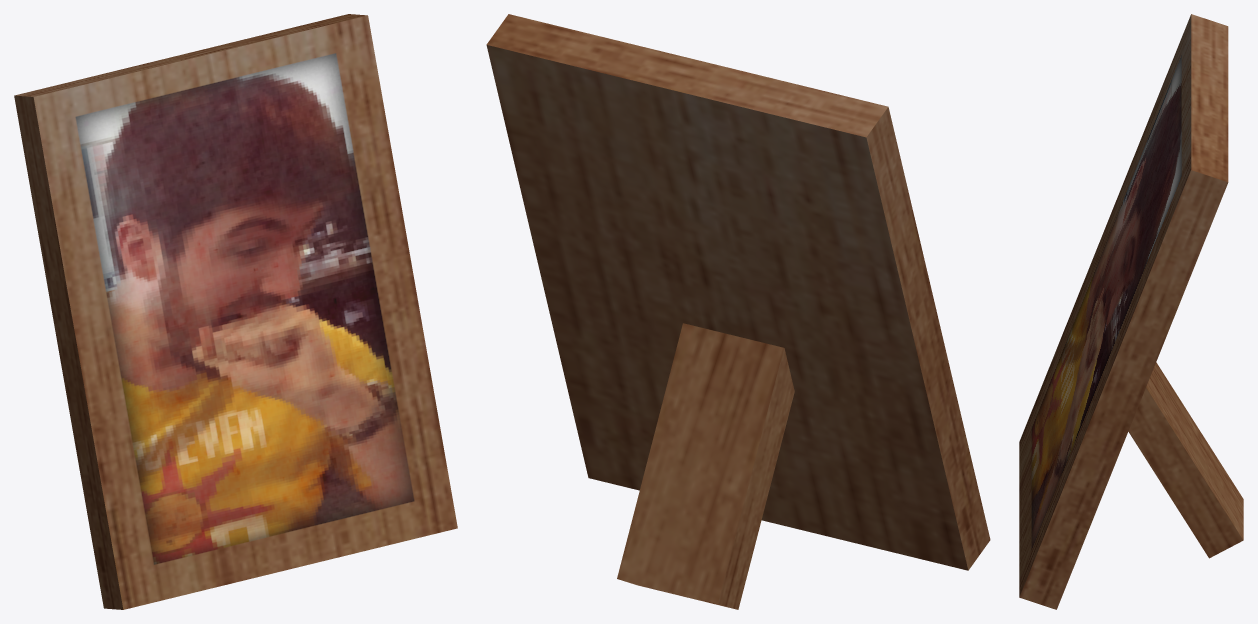
Rendered from Cadre_bureau.FBX.
The picture shows the model from 3 angles, left to right: view 1: azimuth 30°, elevation 25°; view 2: azimuth 150°, elevation 25°; view 3: azimuth 270°, elevation 25°; orthographic projection. The views are drawn at different scales.
Parts seen in each view (by area): view 1: Cadre_bureau; view 2: Cadre_bureau; view 3: Cadre_bureau.
Part boxes in pixels (x1,y1,x2,y2): Cadre_bureau: (14,14,457,609); Cadre_bureau: (486,14,990,609); Cadre_bureau: (1019,14,1243,609).
Size of the model in its own units: 28.19 by 37.54 by 17.1.
